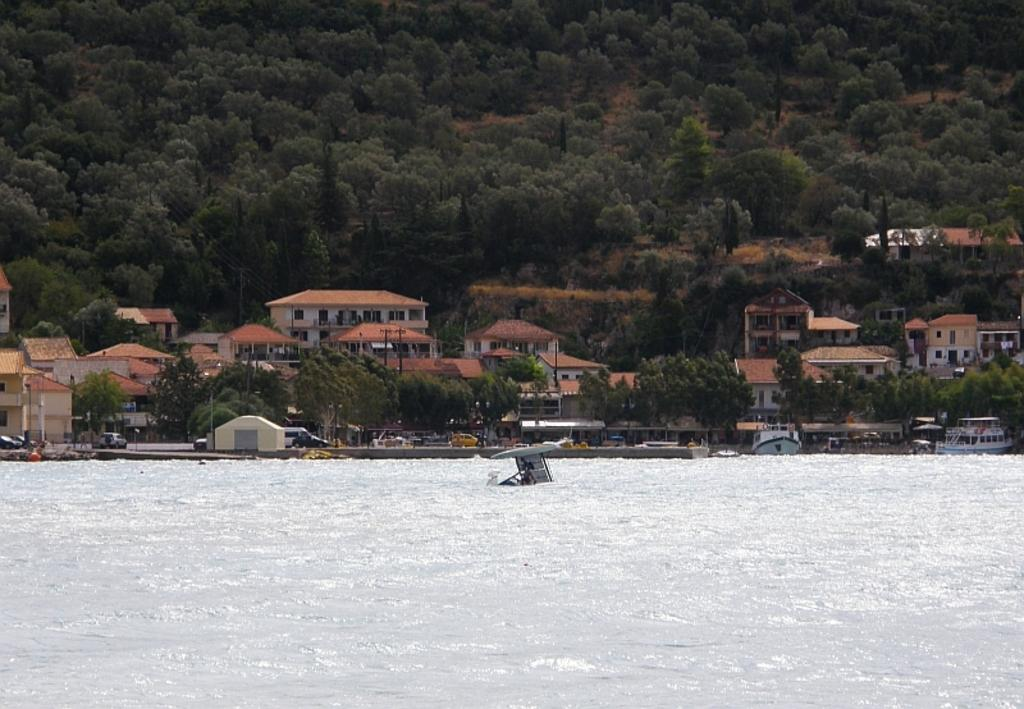PassengerShip: (931, 414, 1015, 462), (748, 416, 808, 460)
